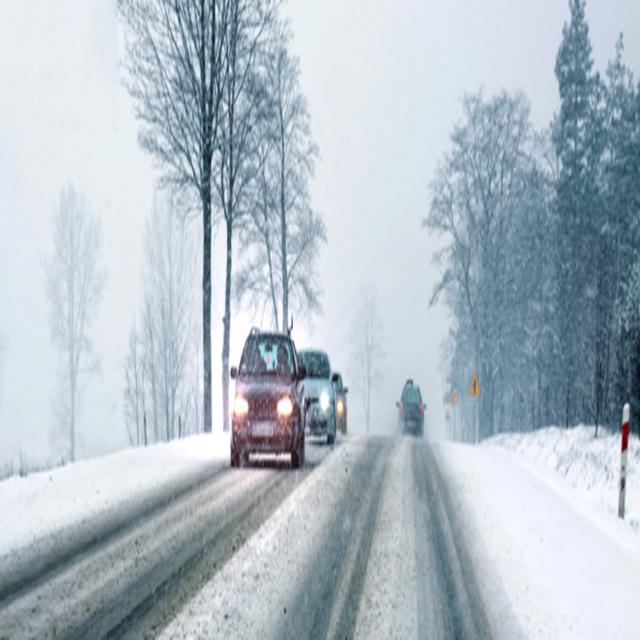car: (227, 329, 308, 472), (298, 345, 340, 445), (398, 378, 424, 436), (332, 369, 350, 432)
